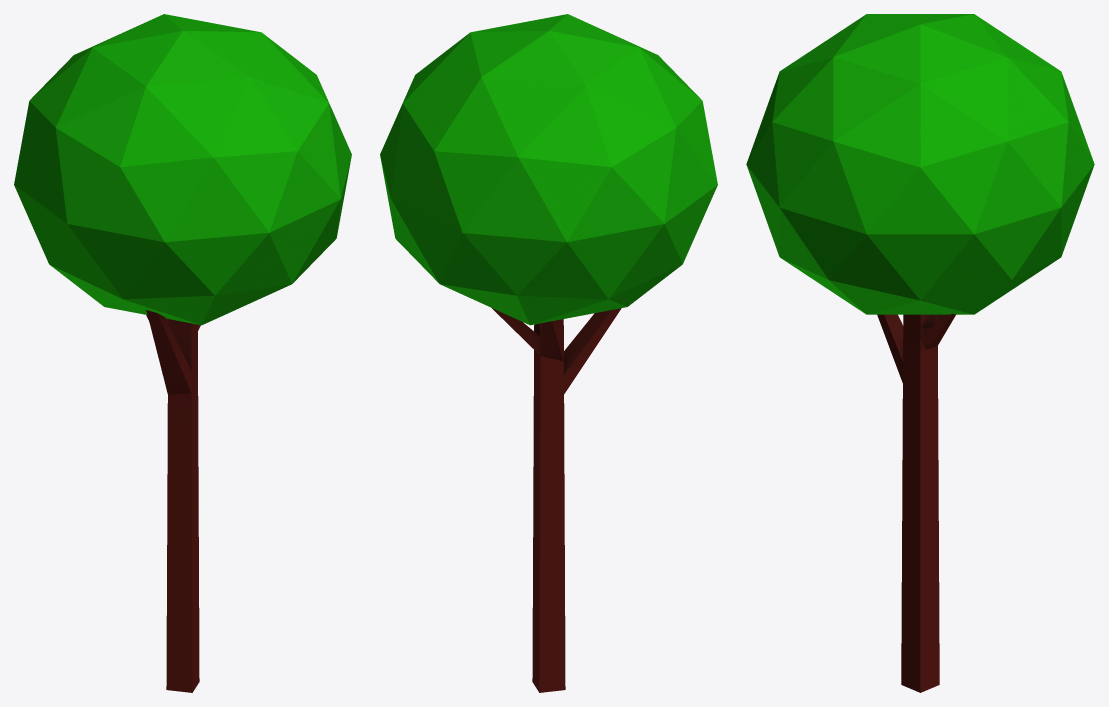
File: tree2.fbx
The picture shows the model from 3 angles, left to right: view 1: azimuth 30°, elevation 25°; view 2: azimuth 150°, elevation 25°; view 3: azimuth 270°, elevation 25°; orthographic projection.
Visible parts, largest first — view 1: tree2; view 2: tree2; view 3: tree2.
Boxes of the visible parts, x1,y1,x2,y2 form: tree2: (14,14,351,692); tree2: (380,14,717,692); tree2: (746,14,1094,692).
Bounding box in the file's own units: 149 × 327 × 156.
